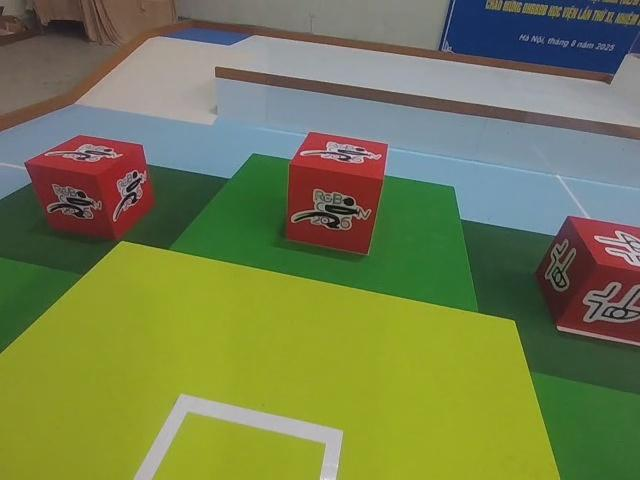R1: (277, 125, 392, 256), (24, 131, 157, 240)
R2 Real: (525, 208, 640, 349)
